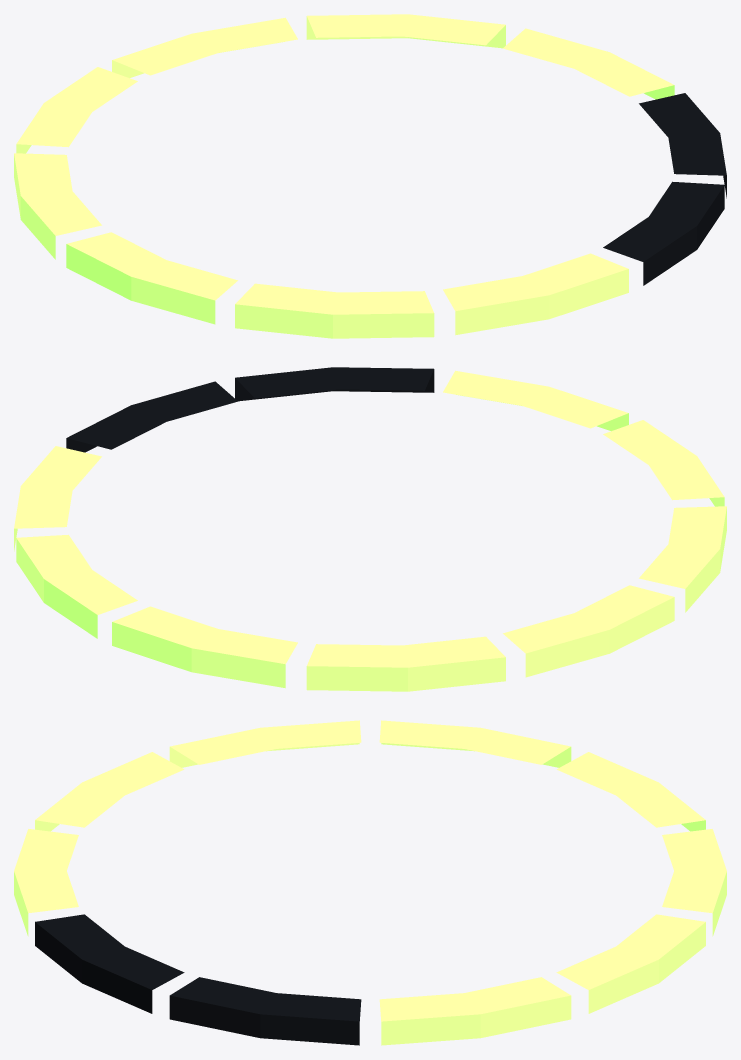
Rendered from hpr_8.glb.
The picture shows the model from 3 angles, top to bottom: view 1: azimuth 30°, elevation 25°; view 2: azimuth 150°, elevation 25°; view 3: azimuth 270°, elevation 25°; orthographic projection.
Parts seen in each view (by area): view 1: hpr_8; view 2: hpr_8; view 3: hpr_8.
Part boxes in pixels (x1,y1,x2,y2): hpr_8: (14, 14, 726, 338); hpr_8: (14, 367, 726, 691); hpr_8: (14, 720, 726, 1045).
Bounding box in the file's own units: 2.16 × 0.08 × 2.16.
